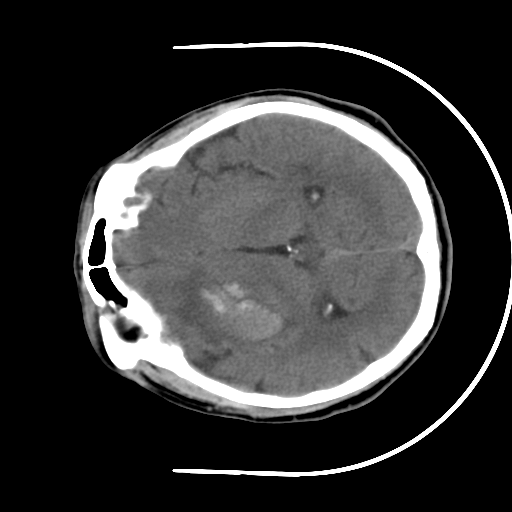a: (165, 260, 296, 354)
